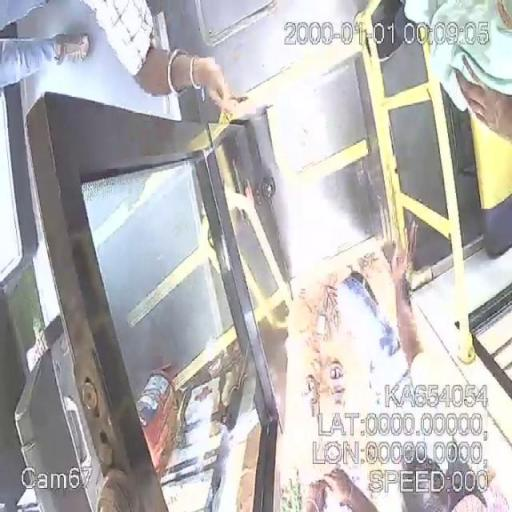persona: (290, 223, 508, 511)
